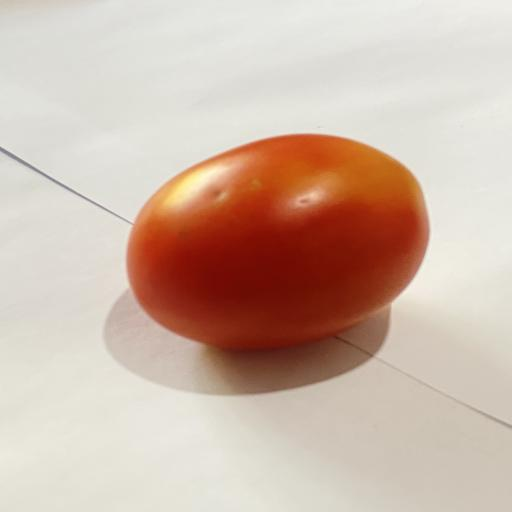ripe: (127, 134, 429, 349)
